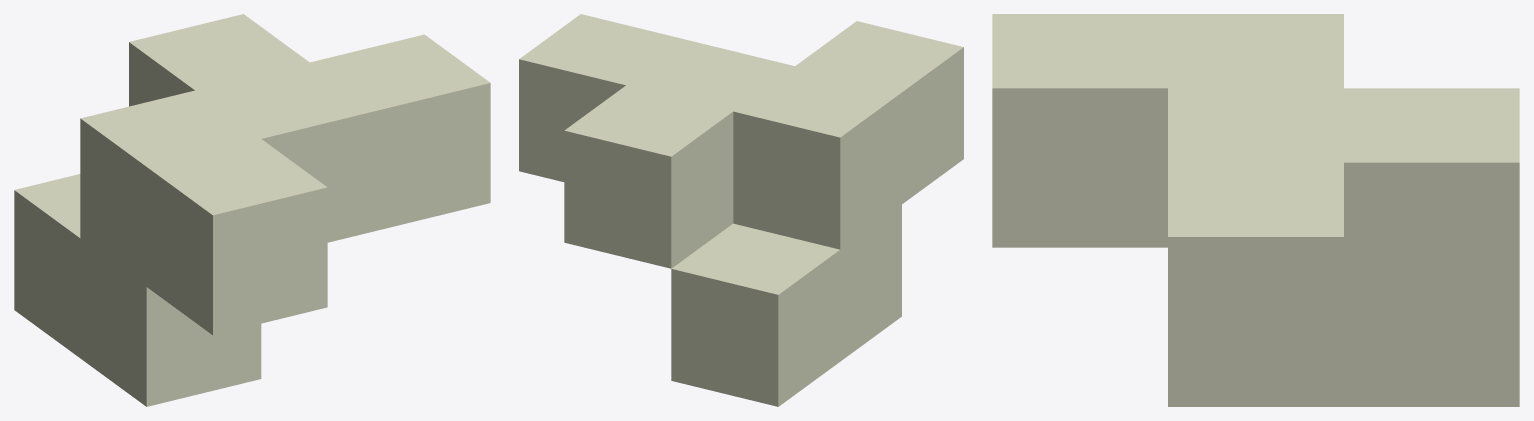
Rendered from cheese.obj.
3 views of the same model, side by side, from view 1: azimuth 30°, elevation 25°; view 2: azimuth 150°, elevation 25°; view 3: azimuth 270°, elevation 25° (orthographic). The views are drawn at different scales.
Bounding box in the file's own units: 0.3 × 0.2 × 0.3.
